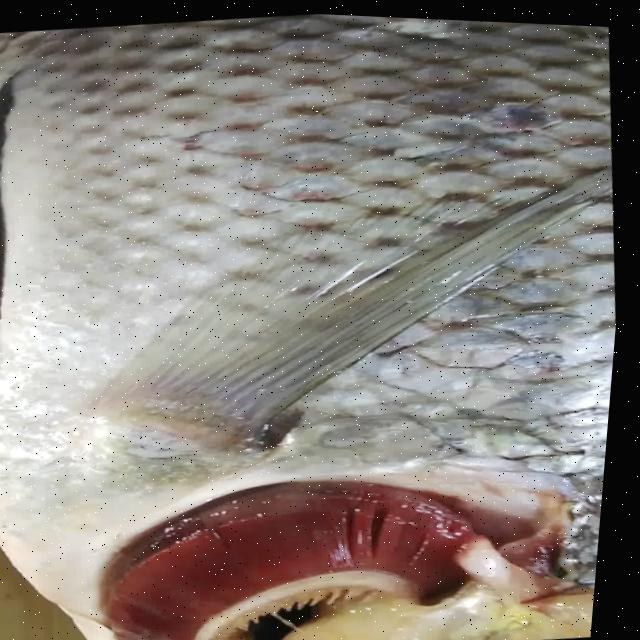Fresh: (64, 449, 548, 640)
